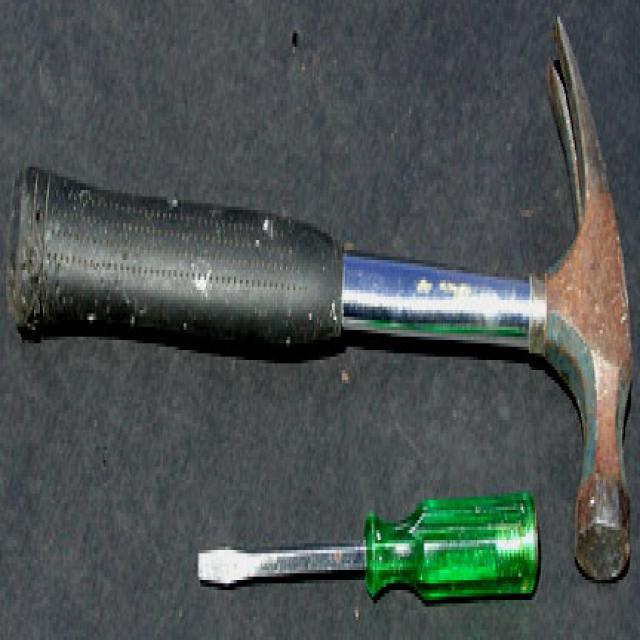hammer: (1, 17, 640, 560)
screwdriver: (174, 458, 550, 636)
